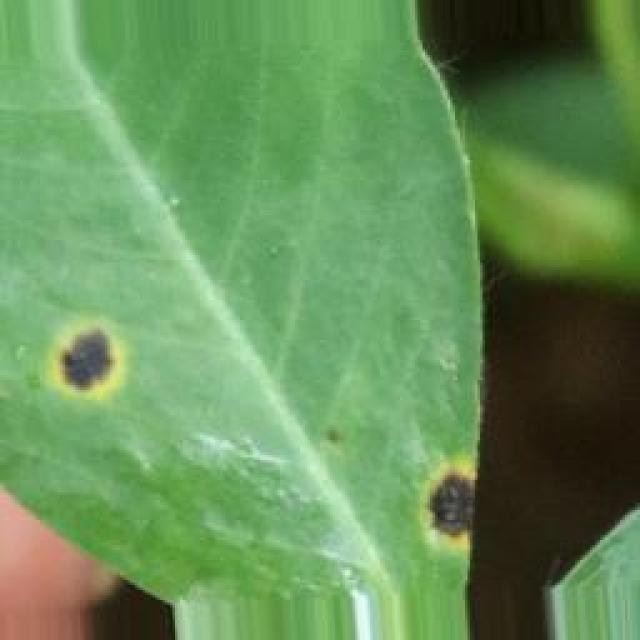Sigatoka: (36, 317, 170, 431), (379, 443, 487, 558), (307, 388, 356, 461)
